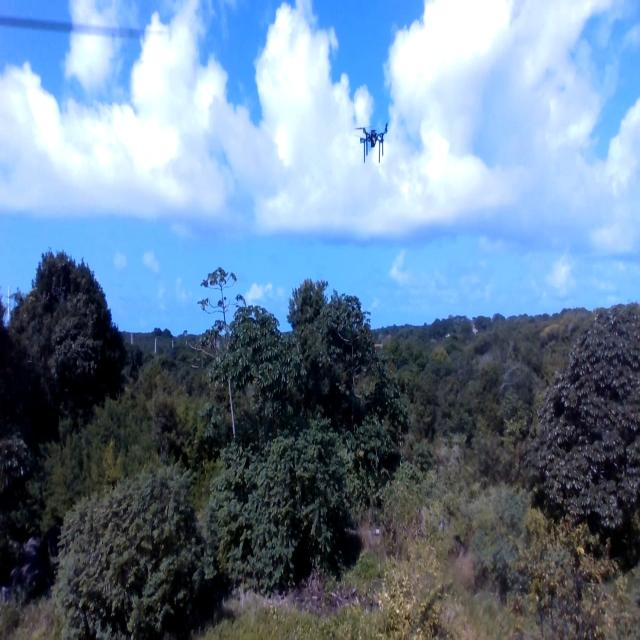-uav-: (348, 115, 396, 168)
